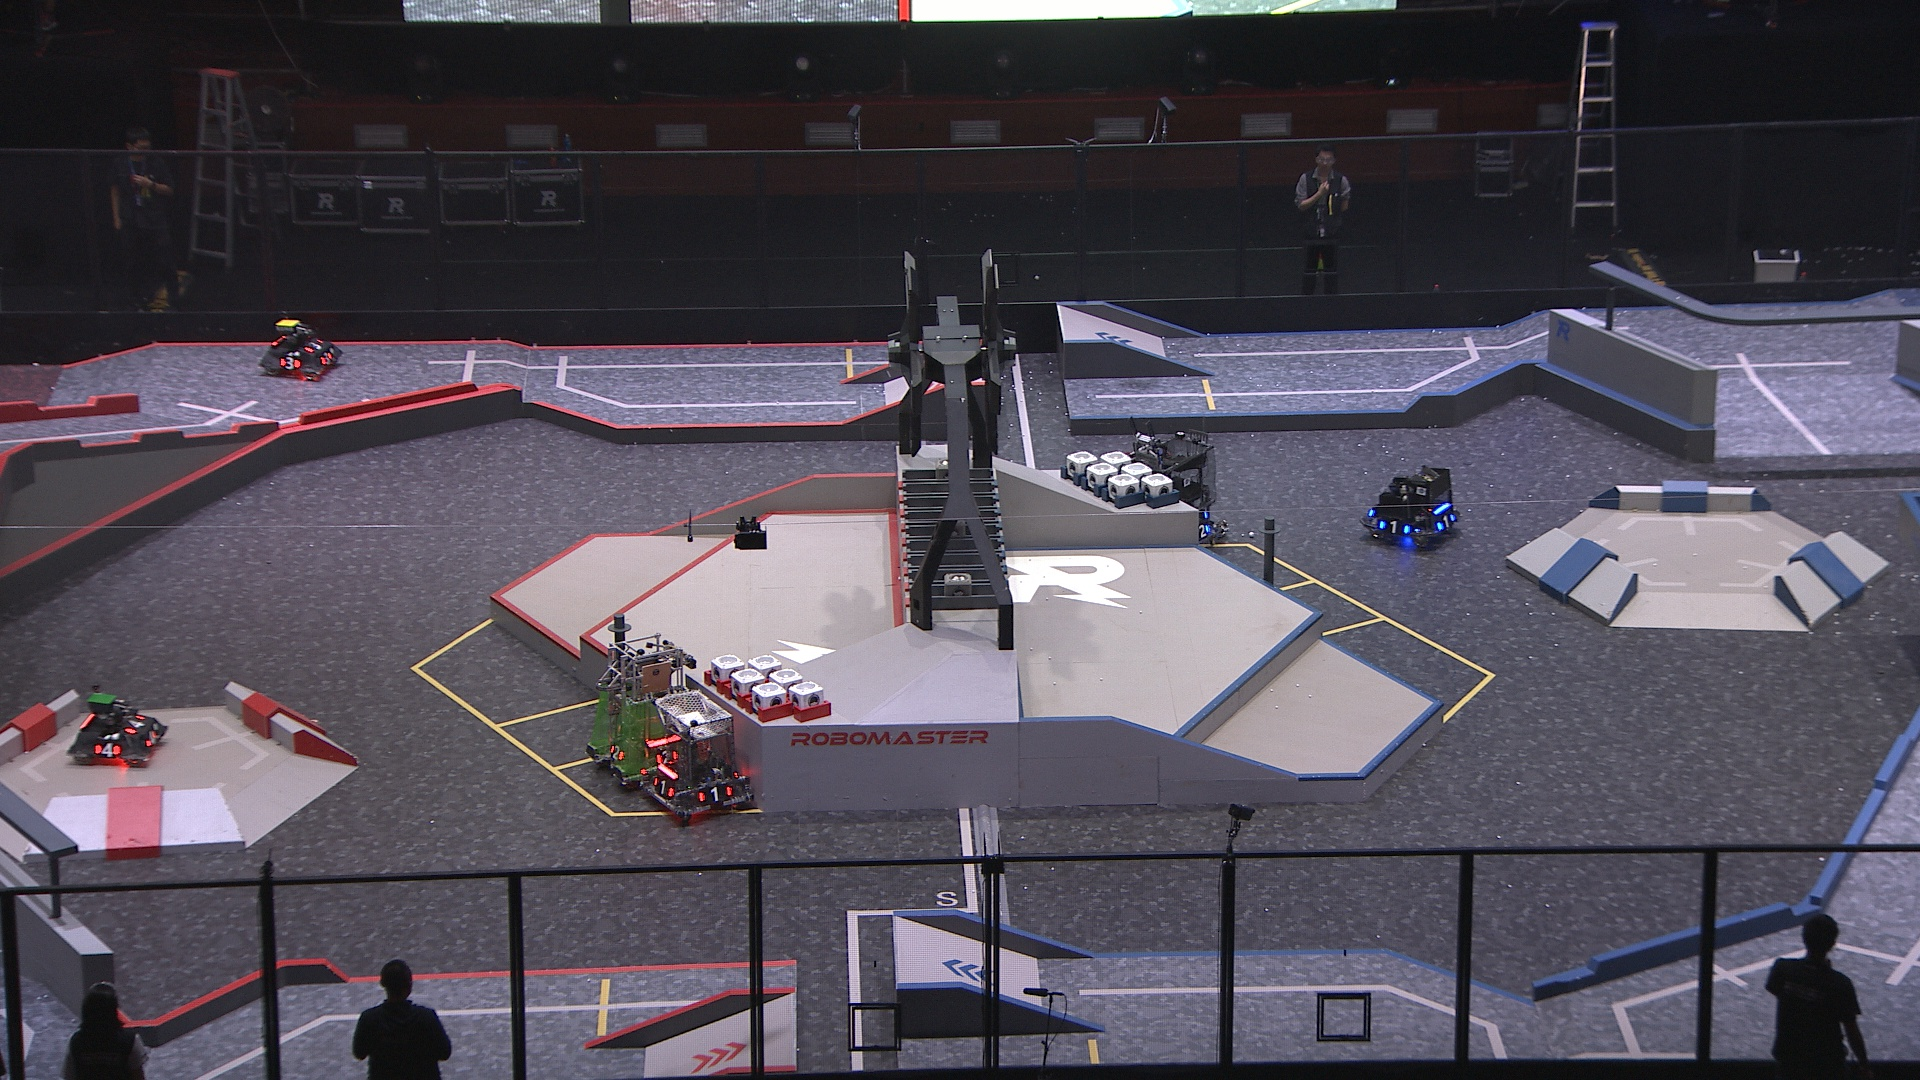armor: (698, 783, 733, 803), (92, 740, 124, 760), (121, 711, 146, 735), (1378, 520, 1414, 535), (651, 775, 675, 798), (301, 335, 328, 353), (276, 353, 302, 371), (1436, 512, 1458, 531), (607, 744, 626, 761), (1196, 522, 1212, 541), (144, 727, 158, 746), (319, 351, 334, 365)
car: (580, 636, 698, 790), (637, 684, 752, 822), (1120, 429, 1230, 543), (1357, 463, 1460, 551), (65, 688, 171, 767), (257, 315, 343, 382)
